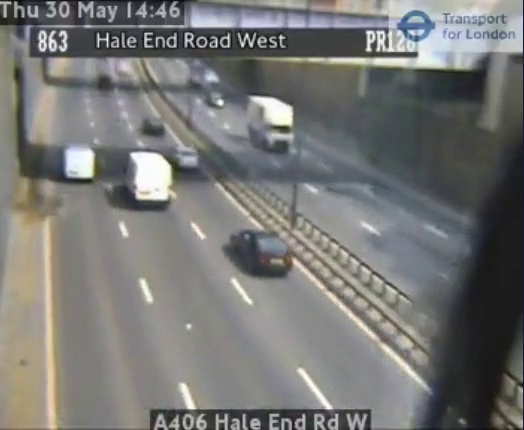car: (231, 231, 293, 275), (174, 147, 199, 168)
van: (125, 151, 172, 204), (64, 147, 95, 180)
